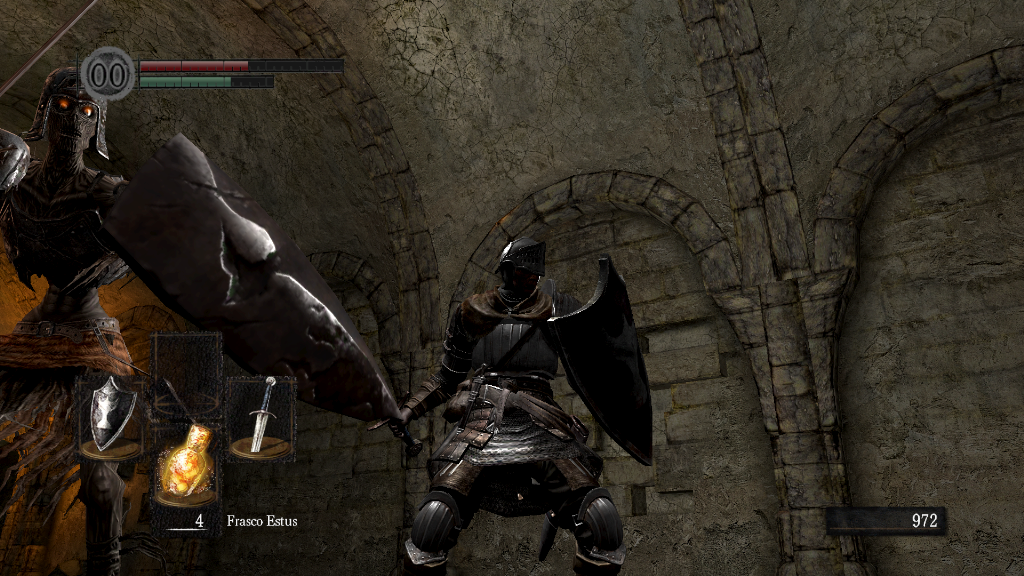health: (138, 58, 343, 71)
humanity: (80, 45, 136, 102)
player: (364, 238, 654, 576)
souls: (825, 506, 945, 536)
stamina: (138, 74, 274, 88)
undeadSoldier: (1, 59, 176, 569)
